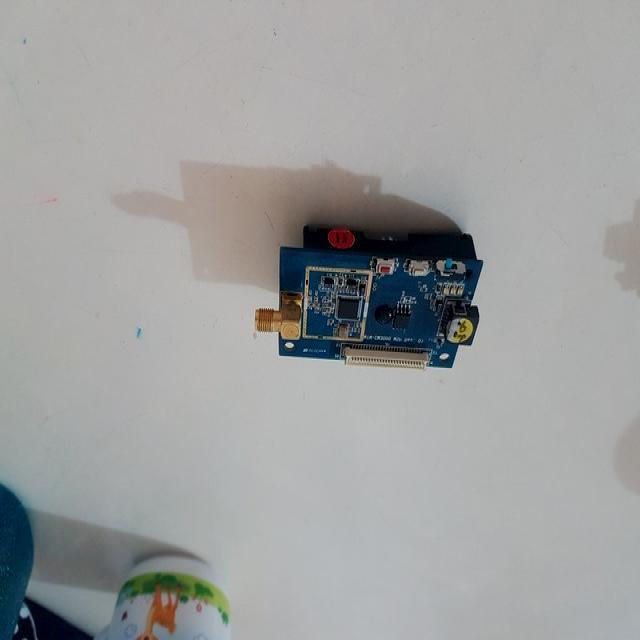TelosB: (257, 226, 484, 368)
